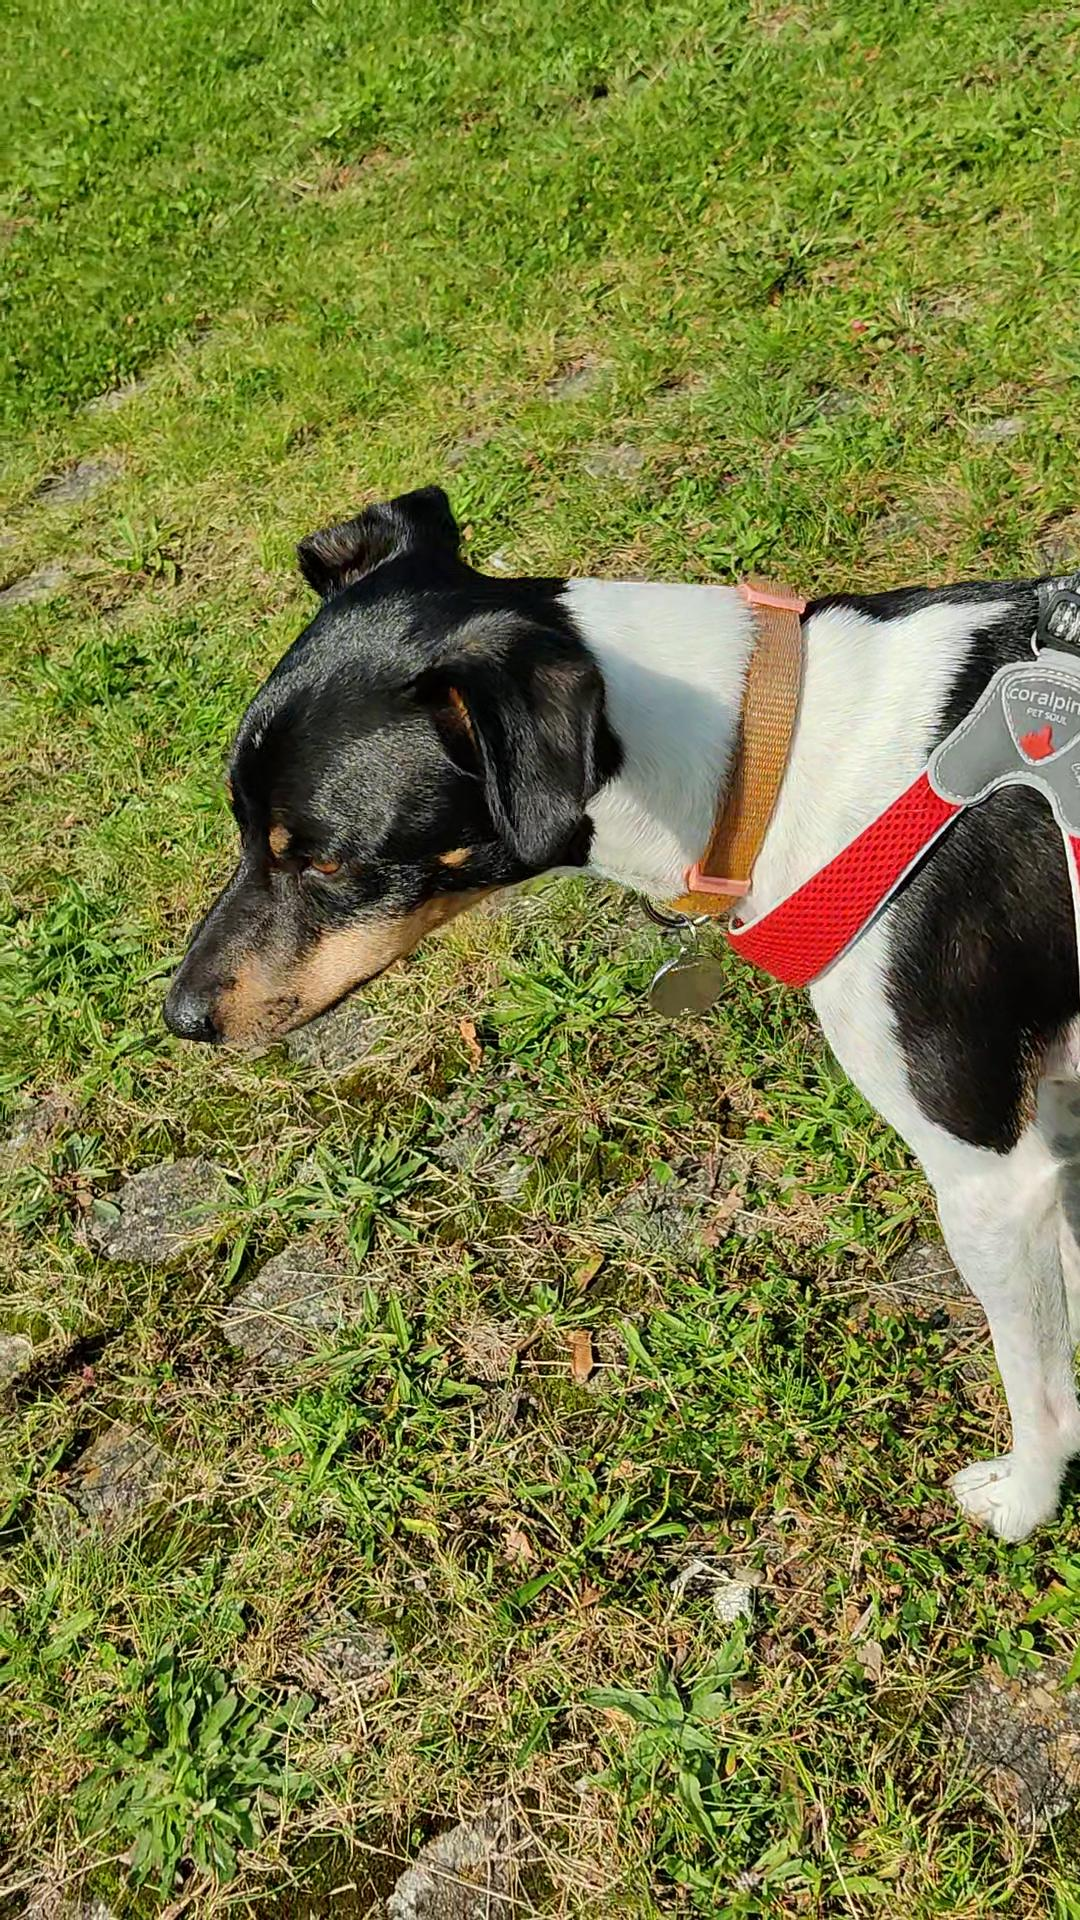Dog: (120, 454, 1079, 1567)
